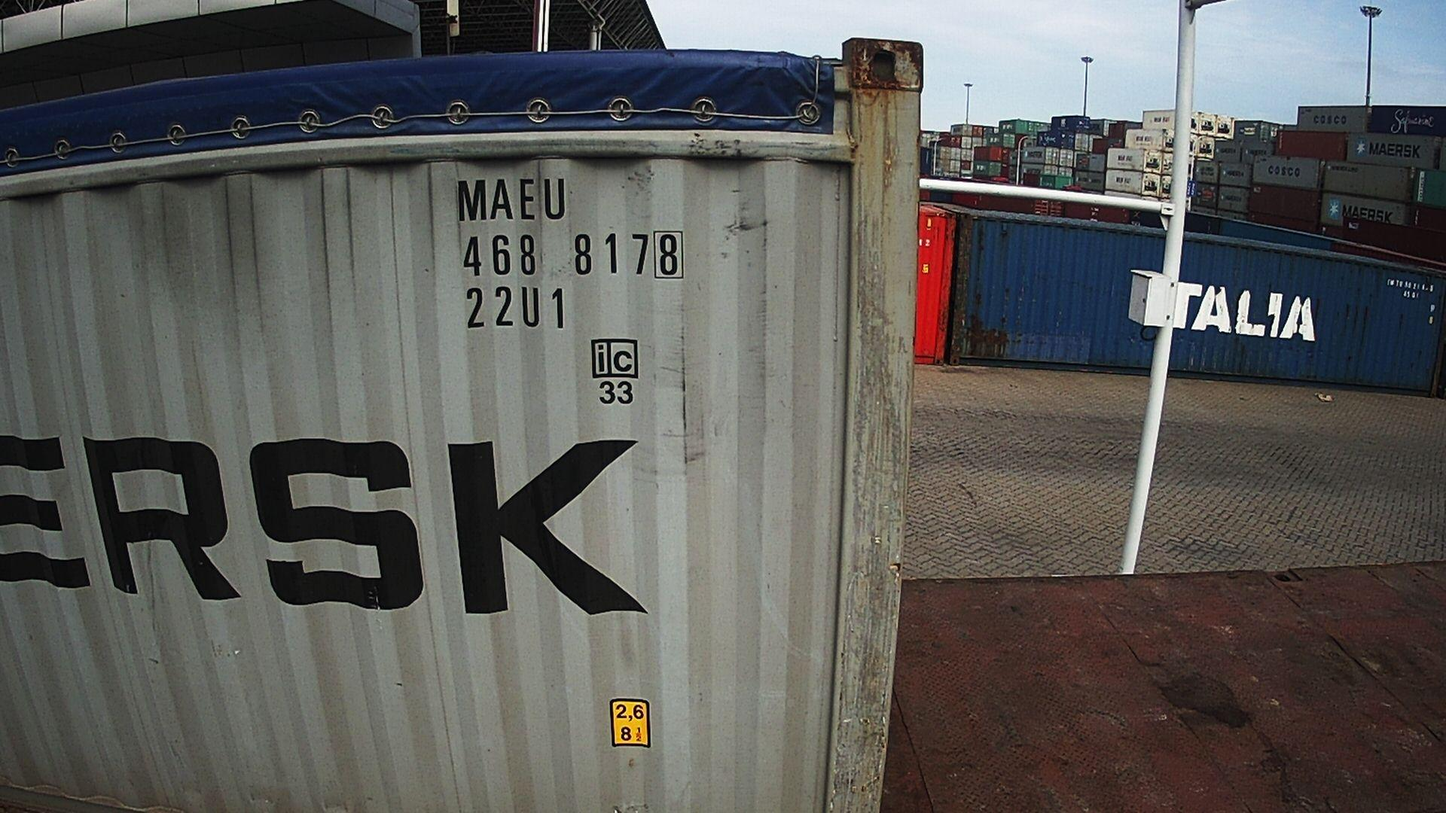container-numbers: (457, 228, 686, 282), (453, 175, 572, 226), (461, 284, 570, 335)
